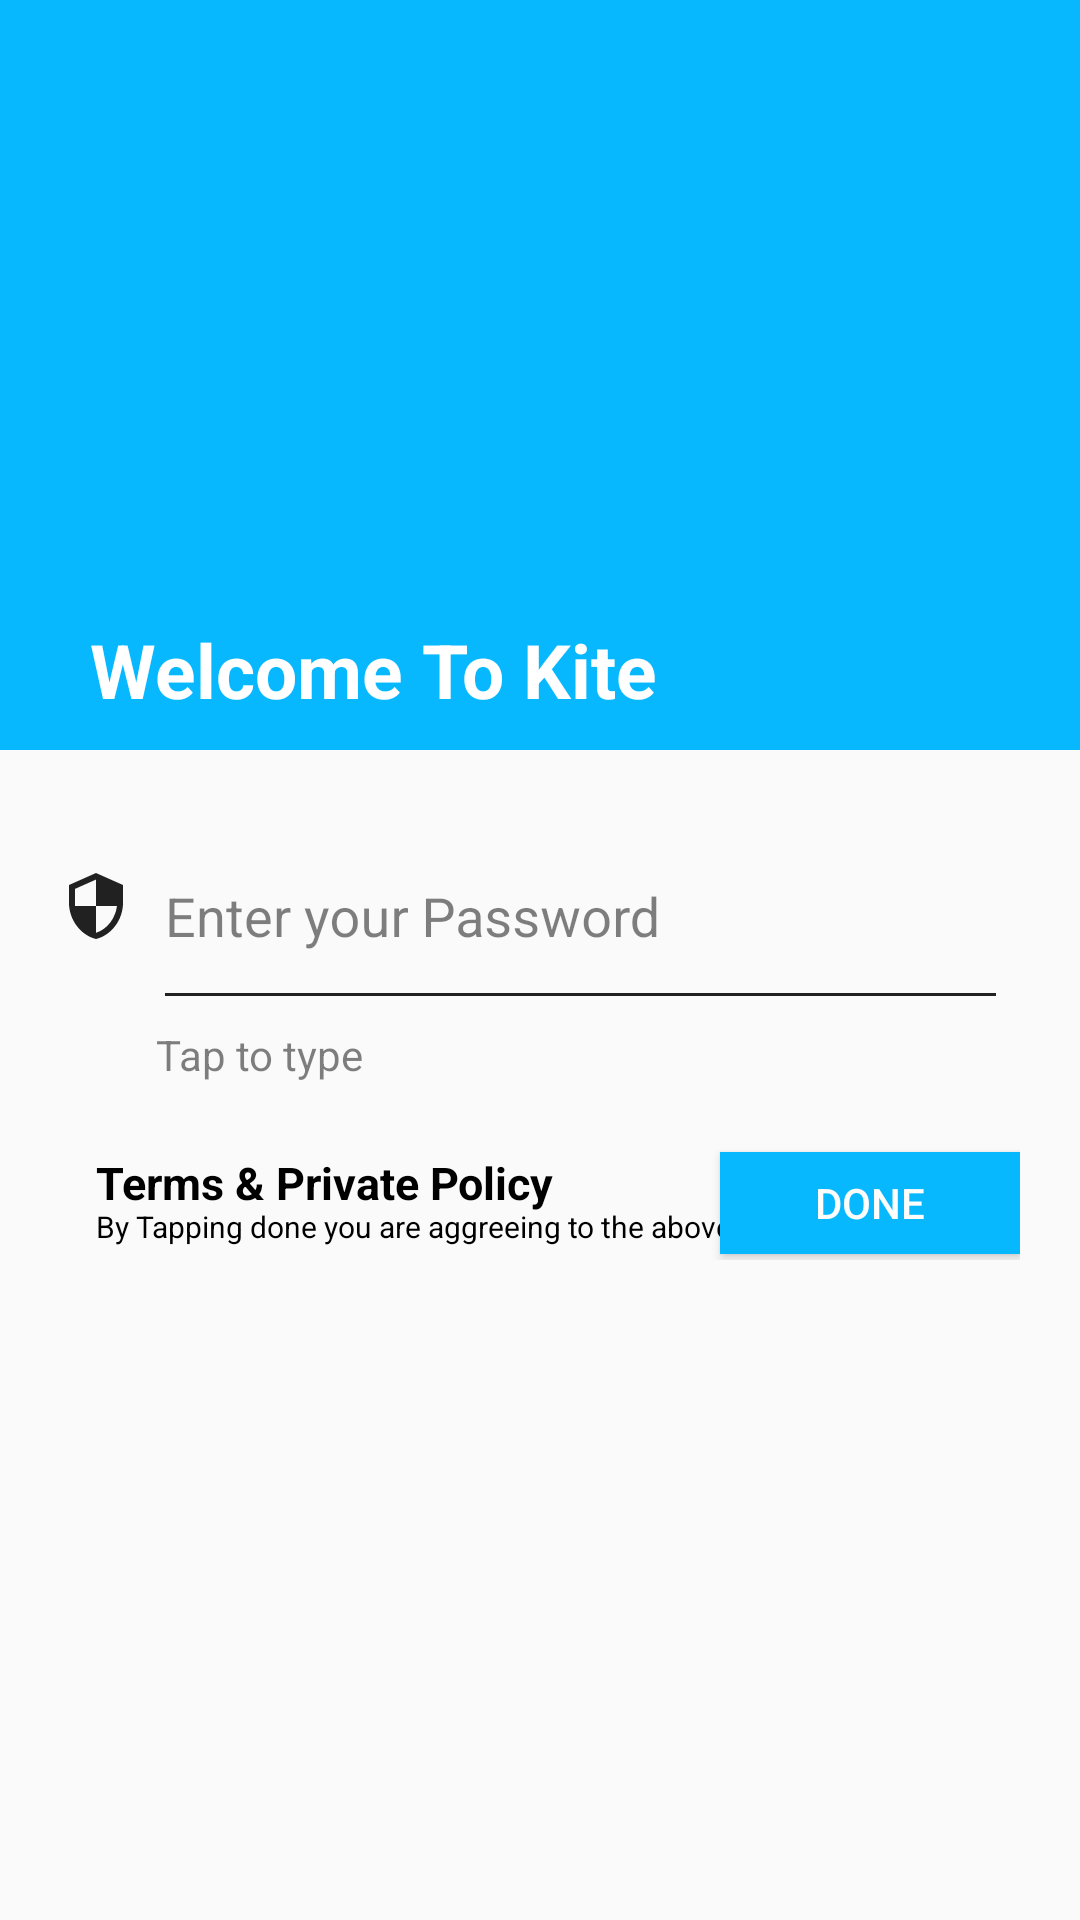

Icon bounding boxes for this 1080px×1920px phone screenshot, format (x1, y1, x2, y2):
security: (69, 873, 123, 939)
